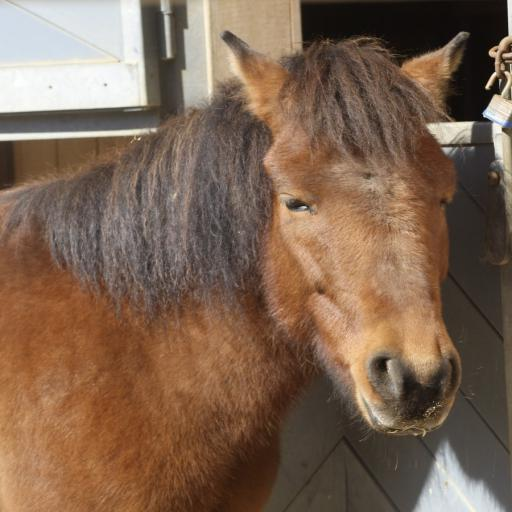horse: (0, 28, 472, 512)
